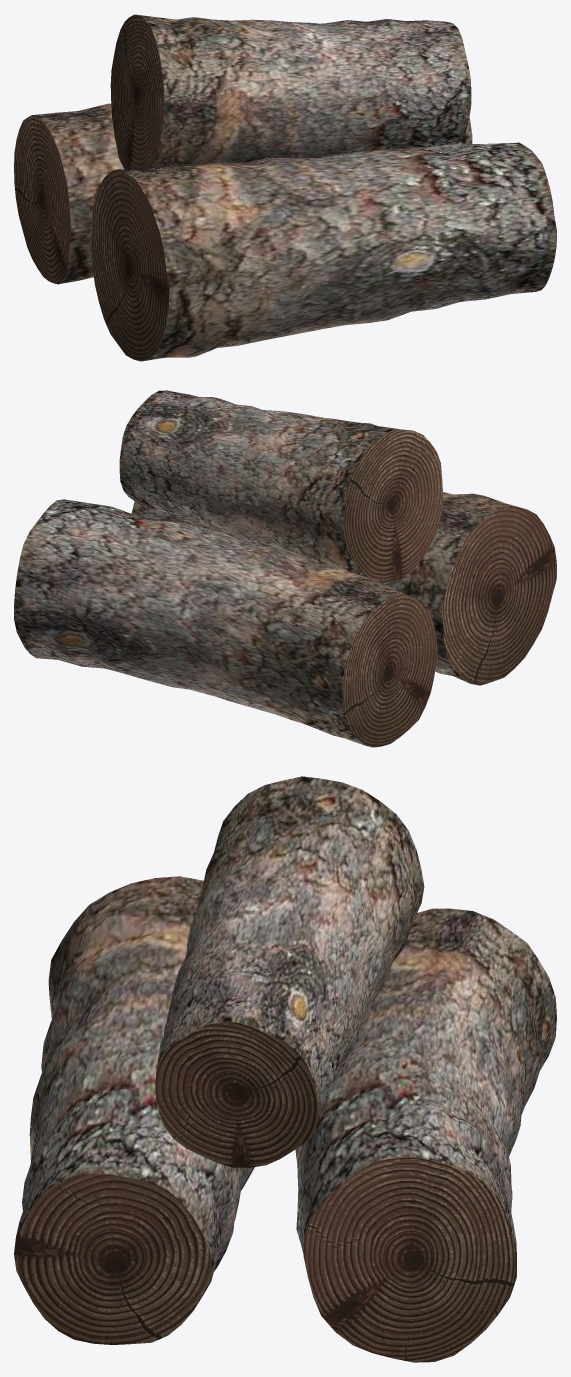
The model's file is logpile.FBX.
3 renders of one model, top to bottom at view 1: azimuth 30°, elevation 25°; view 2: azimuth 150°, elevation 25°; view 3: azimuth 270°, elevation 25°, orthographic. The views are drawn at different scales.
Visible parts, largest first — view 1: Cylinder01, Cylinder03, Cylinder02; view 2: Cylinder02, Cylinder03, Cylinder01; view 3: Cylinder02, Cylinder03, Cylinder01.
Boxes of the visible parts, x1,y1,x2,y2 form: Cylinder01: (90, 142, 556, 361); Cylinder03: (110, 14, 471, 169); Cylinder02: (14, 103, 472, 284); Cylinder02: (14, 499, 437, 747); Cylinder03: (119, 390, 443, 583); Cylinder01: (131, 492, 556, 685); Cylinder02: (295, 908, 556, 1362); Cylinder03: (155, 776, 424, 1167); Cylinder01: (14, 876, 254, 1344).
Size of the model in its own units: 596 by 401 by 523.
Materials: 2 (2 with a texture image).
